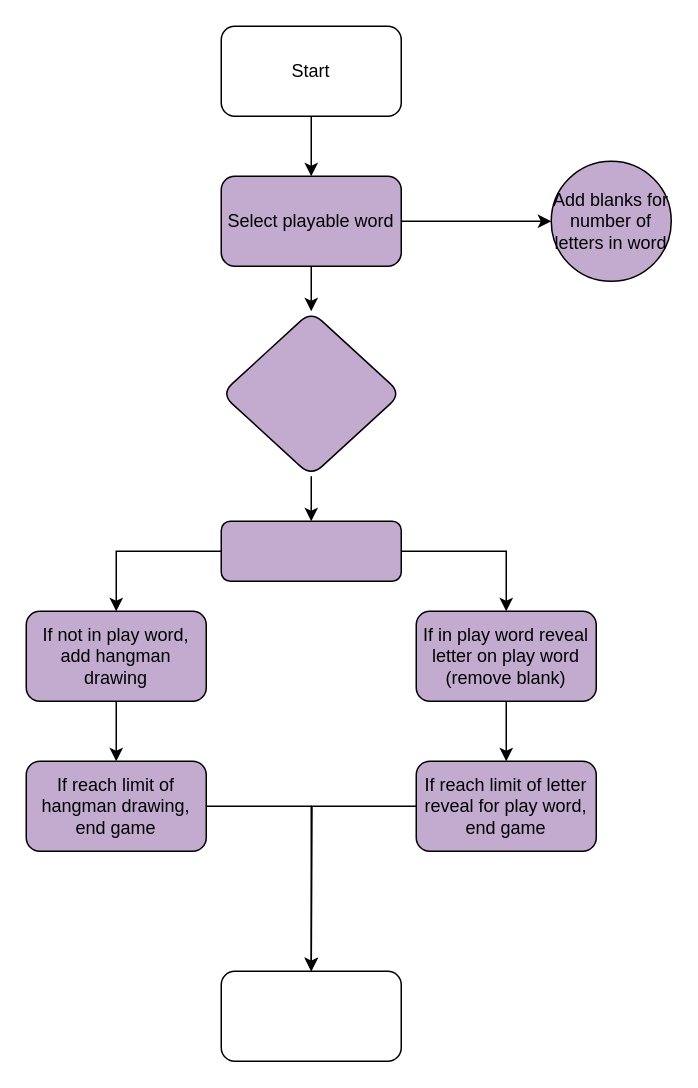
Some shapes in this 698 by 1088 pixel diagram are drawn without their labels. The shapes that lost their labels are listed below. From the top down, each one's centre as x and y in pixels, then its label:
At (310,393): "Input for player letter".
At (310,550): "Store player letter".
At (310,1015): "End".
